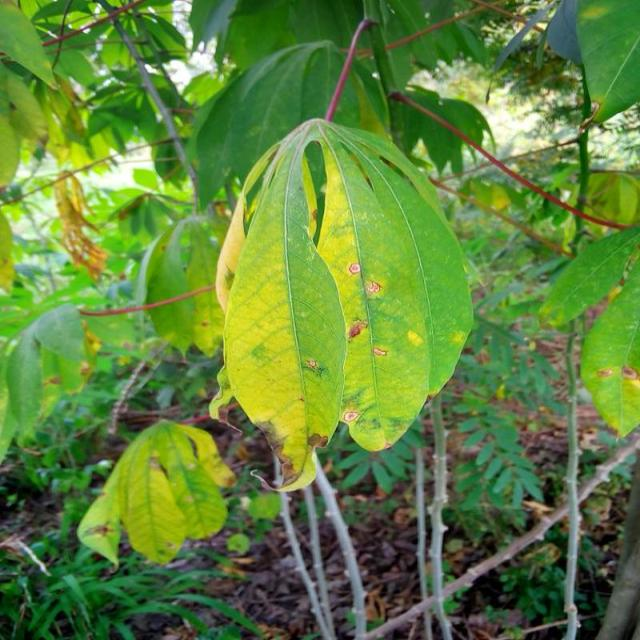cassava leaf: (215, 115, 475, 491), (78, 417, 230, 568)
